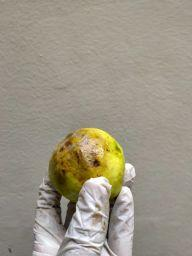guava: (43, 126, 130, 203)
